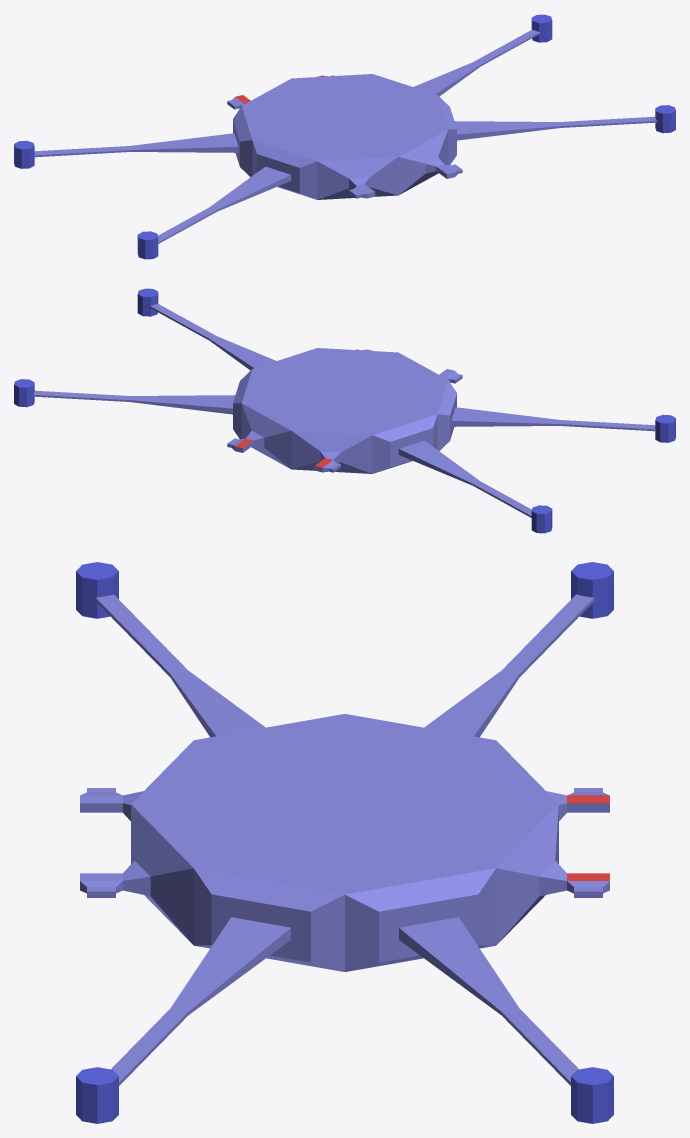
File: drone.glb
3 renders of one model, top to bottom at view 1: azimuth 30°, elevation 25°; view 2: azimuth 150°, elevation 25°; view 3: azimuth 270°, elevation 25°, orthographic. The views are drawn at different scales.
Visible parts, largest first — view 1: body, jet_b_l, jet_f_l, jet_b_r, jet_f_r; view 2: body, jet_f_l, jet_b_l, jet_f_r, jet_b_r; view 3: body, jet_b_r, jet_f_r, jet_b_l, jet_f_l.
Part boxes in pixels (<box>): body: <box>34,29,657,243</box>; jet_b_l: <box>137,231,158,259</box>; jet_f_l: <box>14,140,34,168</box>; jet_b_r: <box>655,105,675,133</box>; jet_f_r: <box>531,14,552,42</box>; body: <box>32,303,655,517</box>; jet_f_l: <box>531,505,552,533</box>; jet_b_l: <box>655,414,675,442</box>; jet_f_r: <box>14,379,34,407</box>; jet_b_r: <box>137,288,158,316</box>; body: <box>80,594,609,1085</box>; jet_b_r: <box>76,1067,118,1123</box>; jet_f_r: <box>571,1067,613,1123</box>; jet_b_l: <box>76,562,118,618</box>; jet_f_l: <box>571,562,613,618</box>.
Size of the model in its own units: 5.79 by 0.4 by 2.51.
